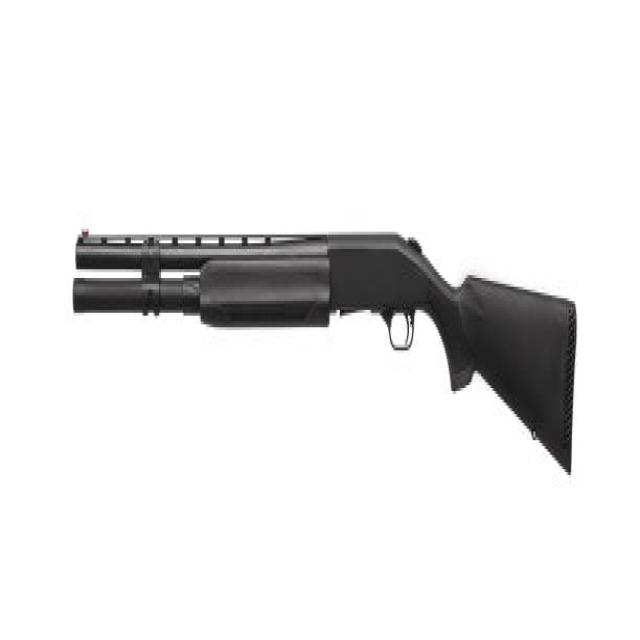rifle: (69, 212, 582, 495)
